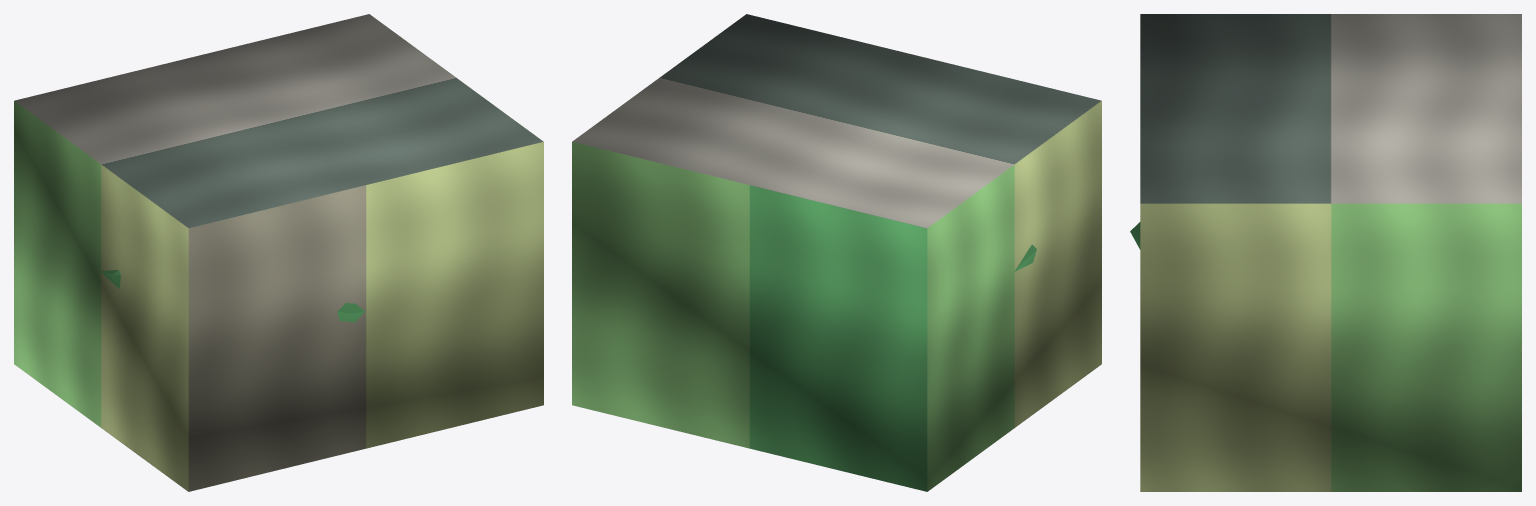
The model's file is pebble.glb.
The picture shows the model from 3 angles, left to right: view 1: azimuth 30°, elevation 25°; view 2: azimuth 150°, elevation 25°; view 3: azimuth 270°, elevation 25°; orthographic projection. The views are drawn at different scales.
Visible parts, largest first — view 1: col, lod0; view 2: col; view 3: col.
Boxes of the visible parts, x1,y1,x2,y2 form: col: (14,14,543,491); lod0: (101,270,364,322); col: (572,14,1101,491); col: (1140,14,1521,491).
Bounding box in the file's own units: 2.17 × 1.51 × 1.87.
Materials: 1 (1 with a texture image).
